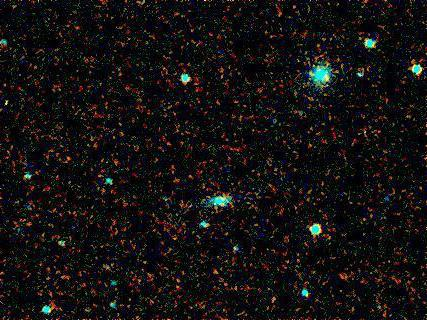star: (178, 189, 208, 219)
